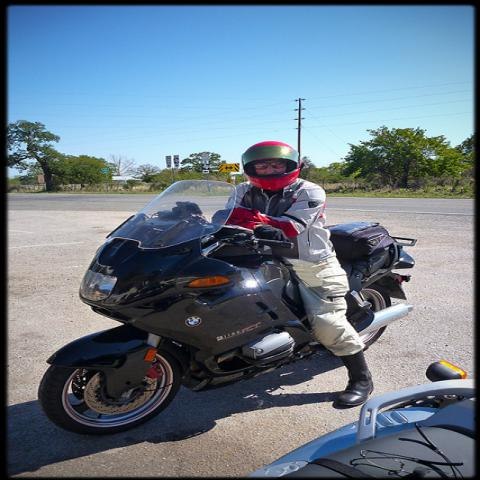motorcycle: (33, 177, 422, 443), (246, 362, 473, 476)
